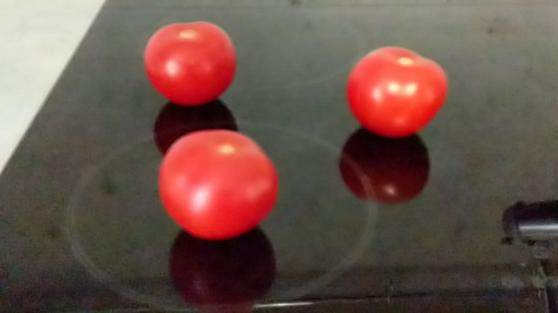tomato: (160, 127, 279, 240), (346, 45, 450, 138), (146, 20, 239, 106)
